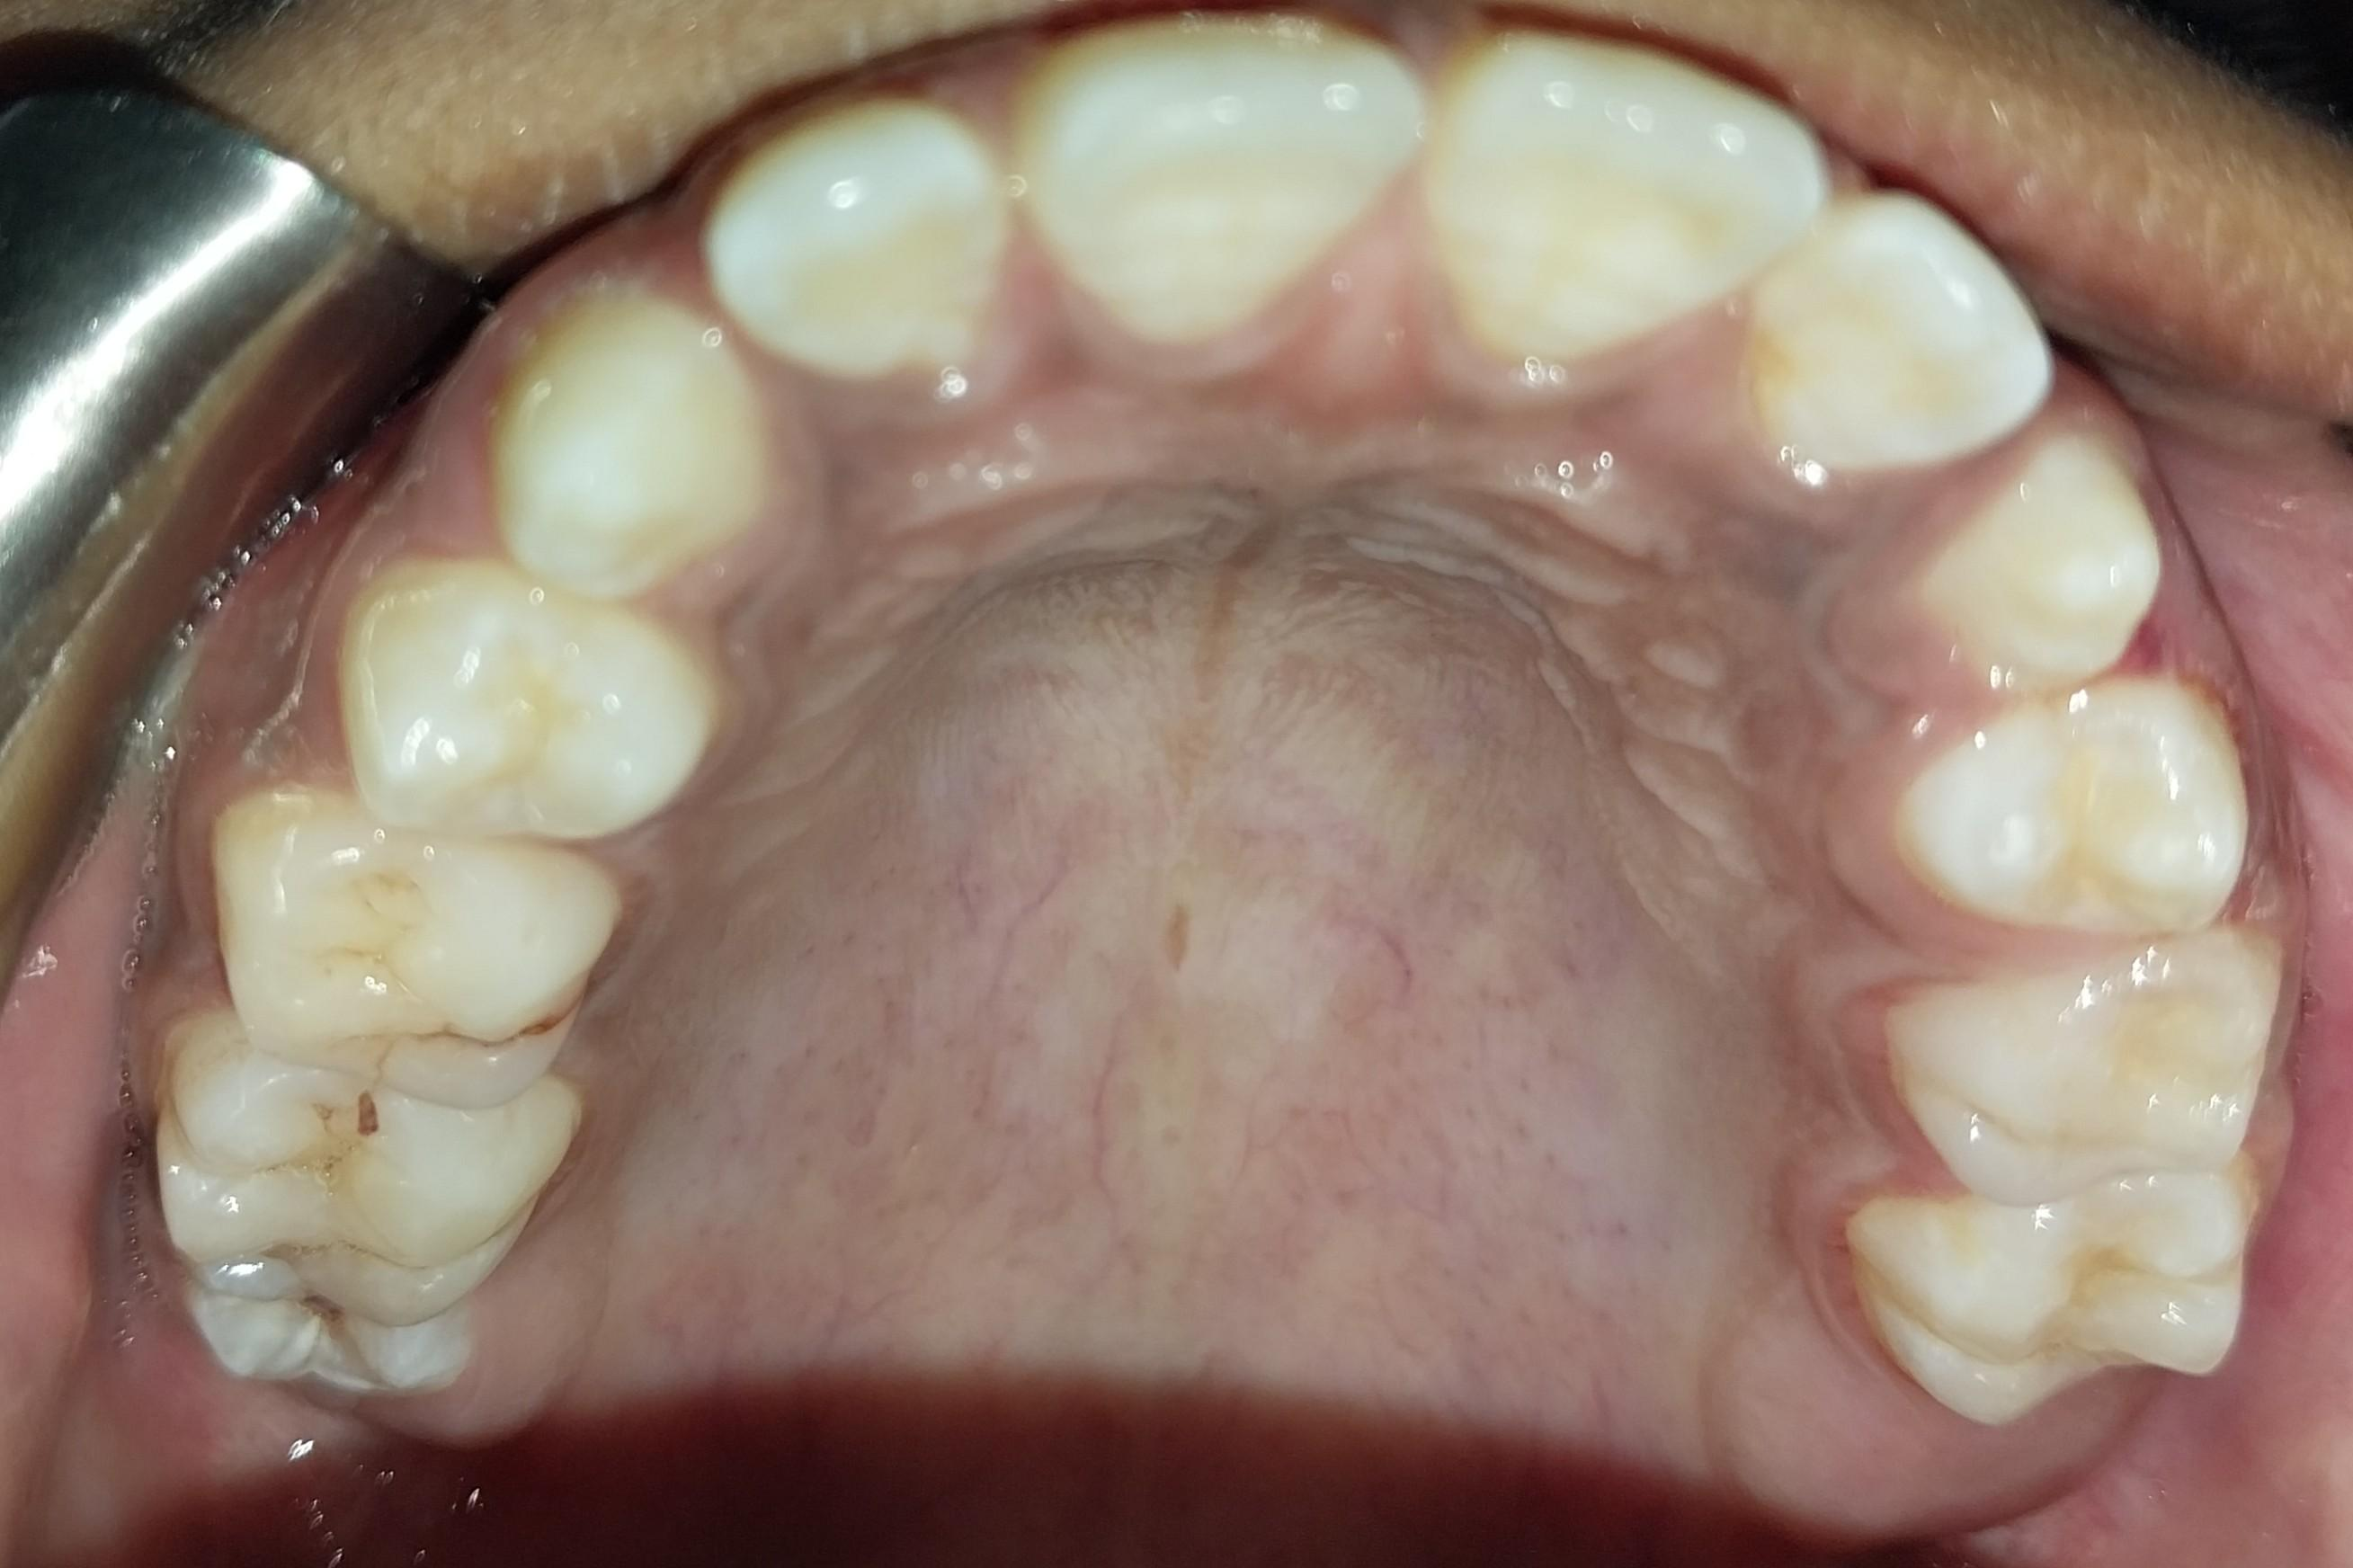D: (144, 1038, 564, 1327)
